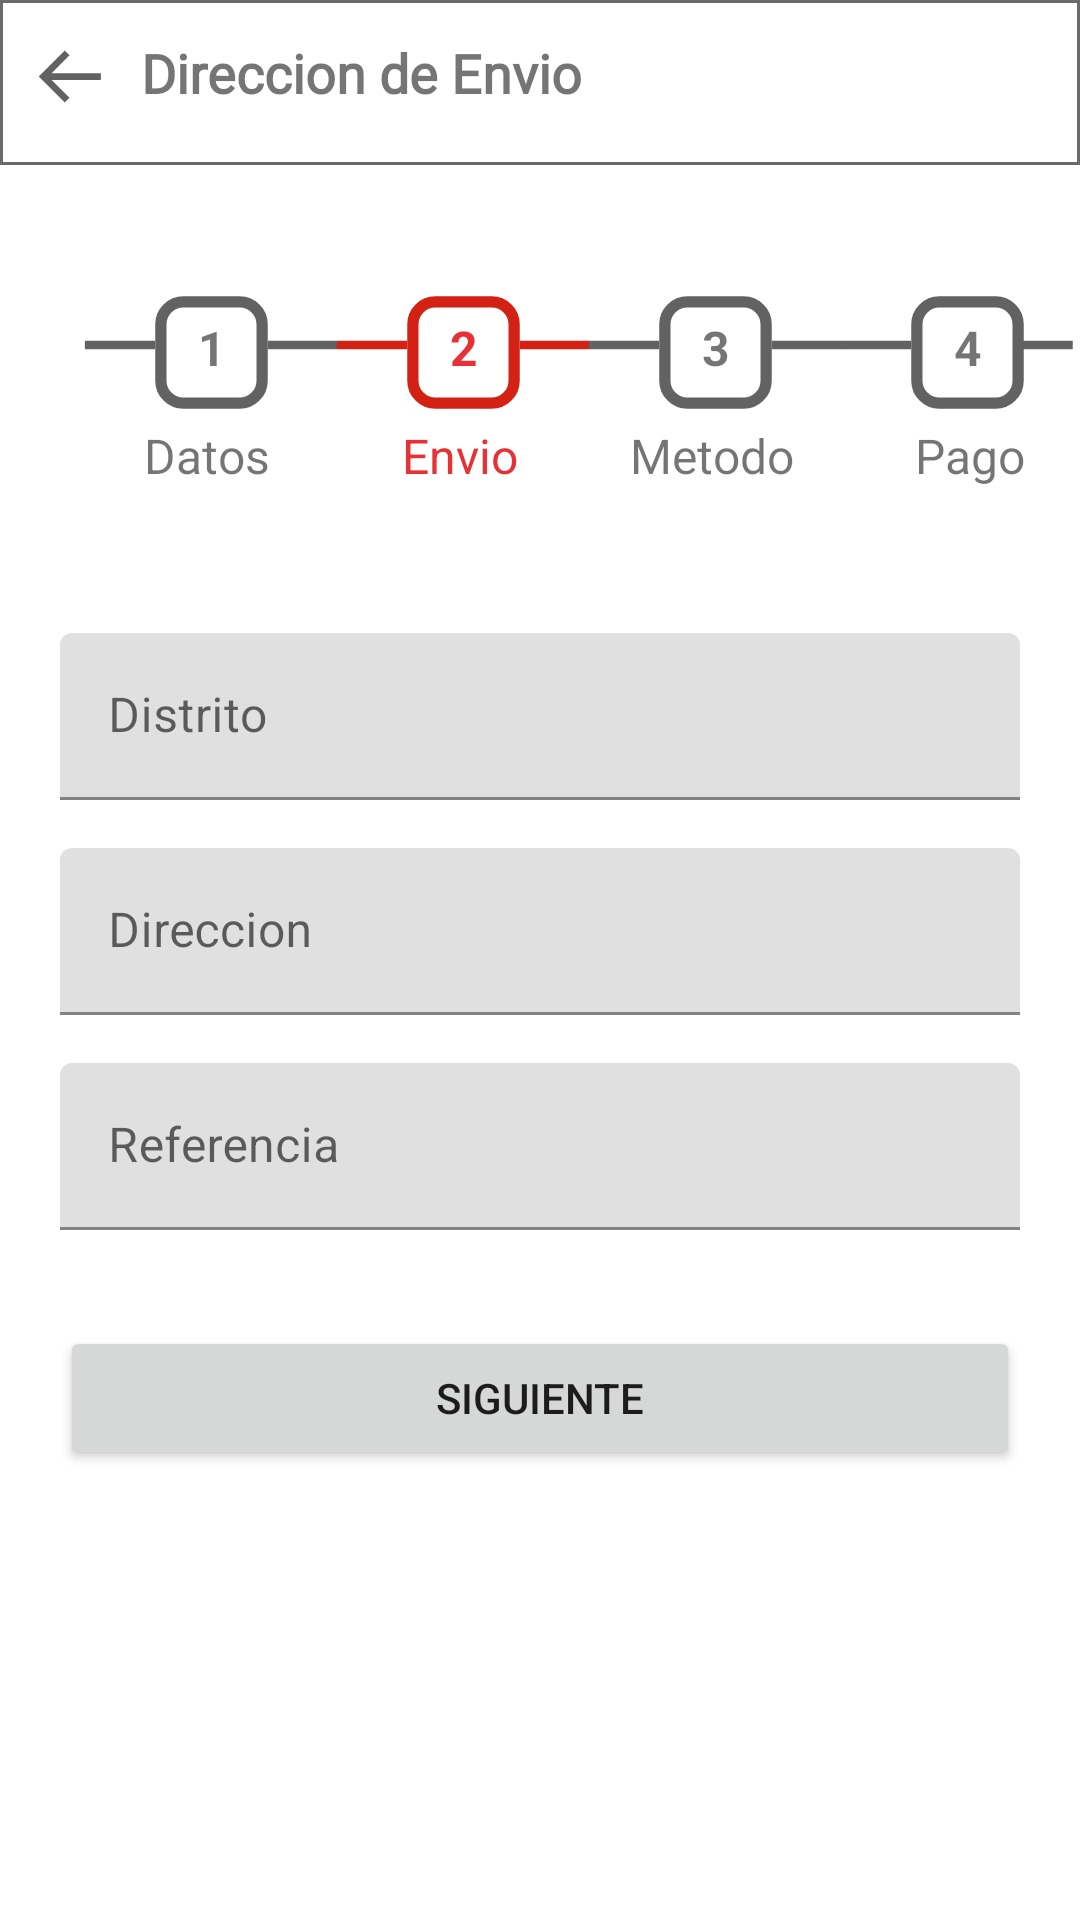

Locate icon controls on the screen. Image size 1080*1920, boxes as (x1=x1, y1=y1, x2=x2, y2=y2).
arrow back: (x1=39, y1=50, x2=101, y2=103)
